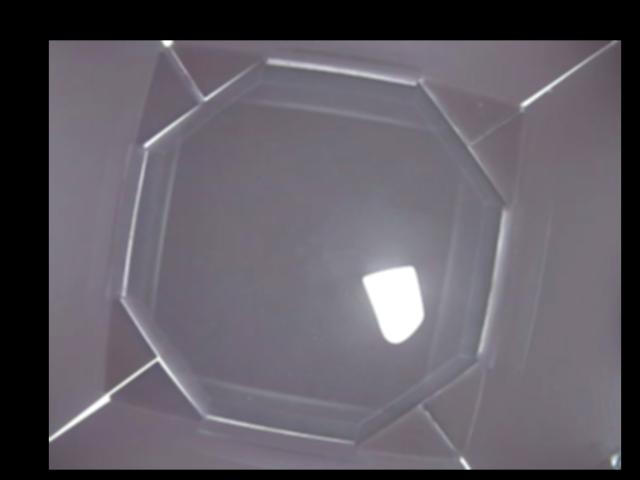Pebble: (365, 264, 423, 342)
